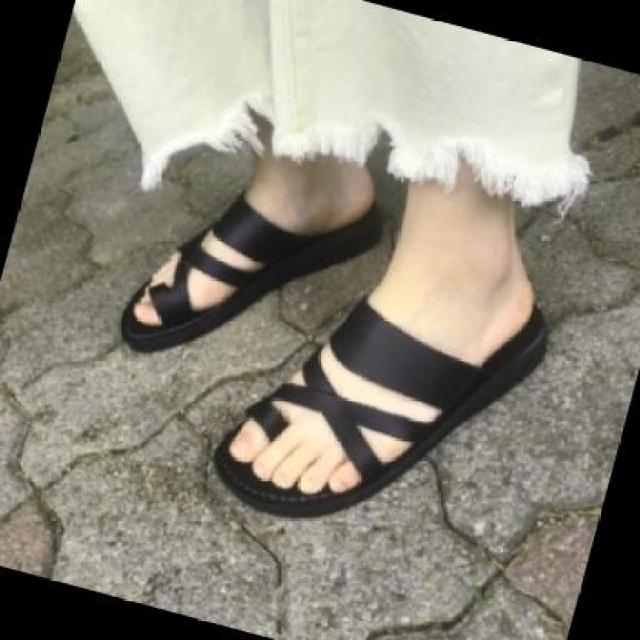Sandals: (213, 193, 564, 526), (110, 135, 368, 364)
